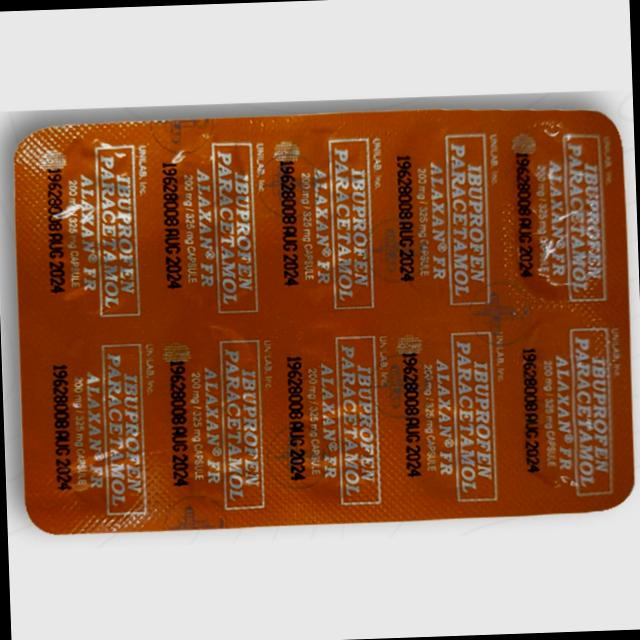blister: (7, 96, 640, 541)
